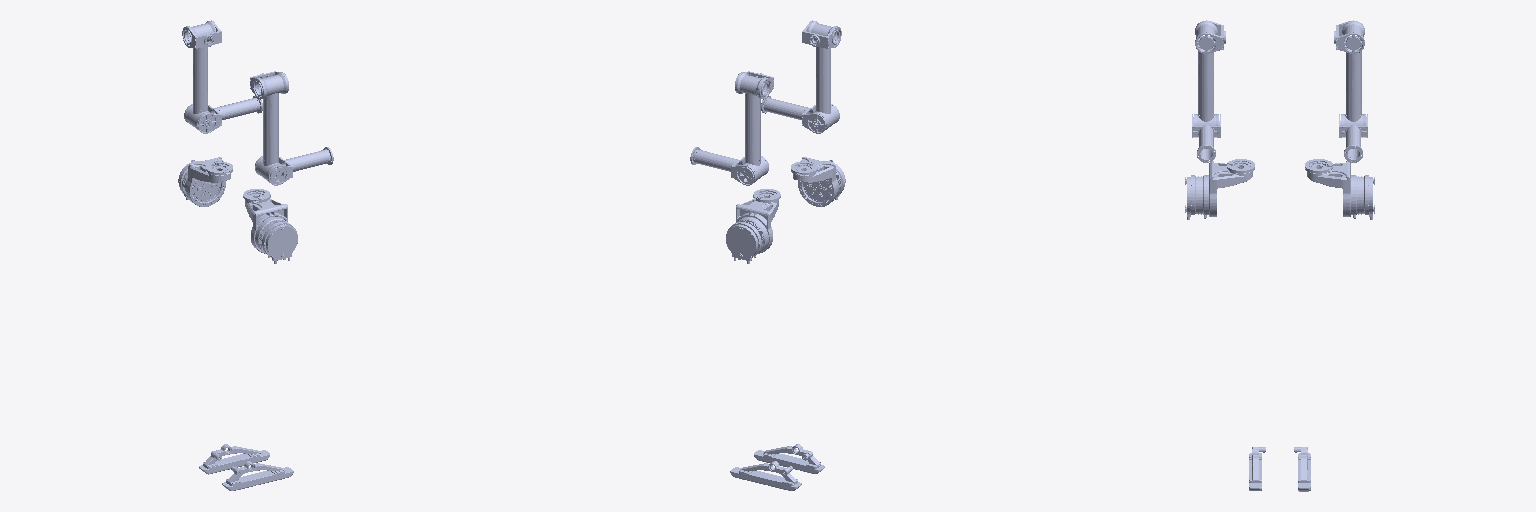
URDF robot description (ht-0_asm.SLDASM8):
<?xml version="1.0" encoding="utf-8"?>
<!-- This URDF was automatically created by SolidWorks to URDF Exporter! Originally created by Stephen Brawner (brawner@gmail.com) 
     Commit Version: 1.6.0-4-g7f85cfe  Build Version: 1.6.7995.38578
     For more information, please see http://wiki.ros.org/sw_urdf_exporter -->
<robot
  name="ht-0_asm.SLDASM8">
  <link
    name="base_link">
    <inertial>
      <origin
        xyz="-0.121277 -0.00095107 0.076934"
        rpy="0 0 0" />
      <mass
        value="21.217" />
      <inertia
        ixx="0.498839"
        ixy="0.000406"
        ixz="-0.006990"
        iyy="0.441925"
        iyz="-0.003179"
        izz="0.247643" />
    </inertial>
    <visual>
      <origin
        xyz="-0.08935 0 0.16852"
        rpy="0 0 0" />
      <geometry>
        <mesh
          filename="../meshes/base_link.STL" />
      </geometry>
      <material
        name="">
        <color
          rgba="0.79216 0.81961 0.93333 1" />
      </material>
    </visual>
  
    <collision>
      <origin xyz="-0.086824 0 0.119734" rpy="0 0 0" />
      <geometry>
        <box size="0.292522 0.26401 0.458058" />
      </geometry>
    </collision>
  </link>
  <link
    name="shoulder_pitch_l_link">
    <inertial>
      <origin
        xyz="0.00045078 0.057023 -0.16263"
        rpy="0 0 0" />
      <mass
        value="0.64782" />
      <inertia
        ixx="0.012211"
        ixy="-0.000002"
        ixz="-0.000048"
        iyy="0.012240"
        iyz="0.000622"
        izz="0.000750" />
    </inertial>
    <visual>
      <origin
        xyz="0 0 0"
        rpy="0 0 0" />
      <geometry>
        <mesh
          filename="../meshes/shoulder_pitch_l_link.STL" />
      </geometry>
      <material
        name="">
        <color
          rgba="0.79216 0.81961 0.93333 1" />
      </material>
    </visual>
  
  </link>
  <joint
    name="shoulder_pitch_l_joint"
    type="revolute">
    <origin
      xyz="-0.08935 0.1647 0.16852"
      rpy="0 0 0" />
    <parent
      link="base_link" />
    <child
      link="shoulder_pitch_l_link" />
    <axis
      xyz="0 1 0" />
    <limit
      lower="-1.74532925199433"
      upper="1.74532925199433"
      effort="50"
      velocity="35.290557475325" />
  </joint>
  <link
    name="elbow_pitch_l_link">
    <inertial>
      <origin
        xyz="0.075424 0.004263 0.00065205"
        rpy="0 0 0" />
      <mass
        value="0.21418" />
      <inertia
        ixx="0.000257"
        ixy="0.000070"
        ixz="-0.000010"
        iyy="0.001321"
        iyz="0.000001"
        izz="0.001461" />
    </inertial>
    <visual>
      <origin
        xyz="0 0 0"
        rpy="0 0 0" />
      <geometry>
        <mesh
          filename="../meshes/elbow_pitch_l_link.STL" />
      </geometry>
      <material
        name="">
        <color
          rgba="0.79216 0.81961 0.93333 1" />
      </material>
    </visual>
  
  </link>
  <joint
    name="elbow_pitch_l_joint"
    type="revolute">
    <origin
      xyz="0 0.062458 -0.3"
      rpy="0 0 0" />
    <parent
      link="shoulder_pitch_l_link" />
    <child
      link="elbow_pitch_l_link" />
    <axis
      xyz="0 1 0" />
    <limit lower="-0.08726646259971647" upper="2.792526803190927" effort="12" velocity="23.038346126325" />
  </joint>
  <link
    name="shoulder_pitch_r_link">
    <inertial>
      <origin
        xyz="0.00045079 -0.060183 -0.16263"
        rpy="0 0 0" />
      <mass
        value="0.64782" />
      <inertia
        ixx="0.012271"
        ixy="0.000001"
        ixz="-0.000048"
        iyy="0.012240"
        iyz="-0.000903"
        izz="0.000810" />
    </inertial>
    <visual>
      <origin
        xyz="0 0 0"
        rpy="0 0 0" />
      <geometry>
        <mesh
          filename="../meshes/shoulder_pitch_r_link.STL" />
      </geometry>
      <material
        name="">
        <color
          rgba="0.79216 0.81961 0.93333 1" />
      </material>
    </visual>
  
  </link>
  <joint
    name="shoulder_pitch_r_joint"
    type="revolute">
    <origin
      xyz="-0.08935 -0.1647 0.16852"
      rpy="0 0 0" />
    <parent
      link="base_link" />
    <child
      link="shoulder_pitch_r_link" />
    <axis
      xyz="0 1 0" />
    <limit
      lower="-1.74532925199433"
      upper="1.74532925199433"
      effort="50"
      velocity="35.290557475325" />
  </joint>
  <link
    name="elbow_pitch_r_link">
    <inertial>
      <origin
        xyz="0.075424 -0.004263 0.00065204"
        rpy="0 0 0" />
      <mass
        value="0.21418" />
      <inertia
        ixx="0.000257"
        ixy="-0.000070"
        ixz="-0.000010"
        iyy="0.001321"
        iyz="-0.000001"
        izz="0.001461" />
    </inertial>
    <visual>
      <origin
        xyz="0 0 0"
        rpy="0 0 0" />
      <geometry>
        <mesh
          filename="../meshes/elbow_pitch_r_link.STL" />
      </geometry>
      <material
        name="">
        <color
          rgba="0.79216 0.81961 0.93333 1" />
      </material>
    </visual>
  
  </link>
  <joint
    name="elbow_pitch_r_joint"
    type="revolute">
    <origin
      xyz="0 -0.062458 -0.3"
      rpy="0 0 0" />
    <parent
      link="shoulder_pitch_r_link" />
    <child
      link="elbow_pitch_r_link" />
    <axis
      xyz="0 1 0" />
    <limit lower="-0.08726646259971647" upper="2.792526803190927" effort="12" velocity="23.038346126325" />
  </joint>
  <link
    name="waist_link">
    <inertial>
      <origin
        xyz="-0.052325 -2.3017E-05 -0.066634"
        rpy="0 0 0" />
      <mass
        value="6.65" />
      <inertia
        ixx="0.077027"
        ixy="-0.000011"
        ixz="-0.006005"
        iyy="0.029755"
        iyz="0.000023"
        izz="0.092209" />
    </inertial>
    <visual>
      <origin
        xyz="0 0 0"
        rpy="0 0 0" />
      <geometry>
        <mesh
          filename="../meshes/waist_link.STL" />
      </geometry>
      <material
        name="">
        <color
          rgba="0.79216 0.81961 0.93333 1" />
      </material>
    </visual>
  
  </link>
  <joint
    name="waist_joint"
    type="revolute">
    <origin
      xyz="-0.08935 0 -0.14548"
      rpy="0 0 0" />
    <parent
      link="base_link" />
    <child
      link="waist_link" />
    <axis
      xyz="0 0 1" />
    <limit
      lower="-1.74532925199433"
      upper="1.74532925199433"
      effort="200"
      velocity="26.075219024795" />
  </joint>
  <link
    name="hip_roll_r_link">
    <inertial>
      <origin
        xyz="0.067607 -4.4804E-05 0.0026625"
        rpy="0 0 0" />
      <mass
        value="1.4872" />
      <inertia
        ixx="0.001270"
        ixy="0.000001"
        ixz="0.000007"
        iyy="0.001573"
        iyz="-0.000000"
        izz="0.001681" />
    </inertial>
    <visual>
      <origin
        xyz="0 0 0"
        rpy="0 0 0" />
      <geometry>
        <mesh
          filename="../meshes/hip_roll_r_link.STL" />
      </geometry>
      <material
        name="">
        <color
          rgba="0.79216 0.81961 0.93333 1" />
      </material>
    </visual>
  
  </link>
  <joint
    name="hip_roll_r_joint"
    type="revolute">
    <origin
      xyz="-0.0605 -0.12 -0.0845"
      rpy="0 0 0" />
    <parent
      link="waist_link" />
    <child
      link="hip_roll_r_link" />
    <axis
      xyz="1 0 0" />
    <limit
      lower="-0.5235987755982988"
      upper="0.3490658503988659"
      effort="320"
      velocity="24.609142453120" />
  </joint>
  <link
    name="hip_yaw_r_link">
    <inertial>
      <origin
        xyz="5.1727E-05 -0.093039 -0.088751"
        rpy="0 0 0" />
      <mass
        value="3.4235" />
      <inertia
        ixx="0.013452"
        ixy="0.000001"
        ixz="0.000002"
        iyy="0.011643"
        iyz="-0.003400"
        izz="0.010360" />
    </inertial>
    <visual>
      <origin
        xyz="0 0 0"
        rpy="0 0 0" />
      <geometry>
        <mesh
          filename="../meshes/hip_yaw_r_link.STL" />
      </geometry>
      <material
        name="">
        <color
          rgba="0.79216 0.81961 0.93333 1" />
      </material>
    </visual>
  
  </link>
  <joint
    name="hip_yaw_r_joint"
    type="revolute">
    <origin
      xyz="0.0695 0 -0.0323"
      rpy="0 0 0" />
    <parent
      link="hip_roll_r_link" />
    <child
      link="hip_yaw_r_link" />
    <axis
      xyz="0 0 1" />
    <limit
      lower="-0.4363323129985824"
      upper="0.4363323129985824"
      effort="200"
      velocity="26.075219024795" />
  </joint>
  <link
    name="hip_pitch_r_link">
    <inertial>
      <origin
        xyz="0.0053486 0.085838 -0.089566"
        rpy="0 0 0" />
      <mass
        value="6.0129" />
      <inertia
        ixx="0.130527"
        ixy="-0.000612"
        ixz="0.006842"
        iyy="0.128586"
        iyz="0.013989"
        izz="0.016553" />
    </inertial>
    <visual>
      <origin
        xyz="0 0 0"
        rpy="0 0 0" />
      <geometry>
        <mesh
          filename="../meshes/hip_pitch_r_link.STL" />
      </geometry>
      <material
        name="">
        <color
          rgba="0.79216 0.81961 0.93333 1" />
      </material>
    </visual>
  
  </link>
  <joint
    name="hip_pitch_r_joint"
    type="revolute">
    <origin
      xyz="0 -0.076 -0.1033"
      rpy="0 0 0" />
    <parent
      link="hip_yaw_r_link" />
    <child
      link="hip_pitch_r_link" />
    <axis
      xyz="0 1 0" />
    <limit
      lower="-1.74532925199433"
      upper="1.74532925199433"
      effort="400"
      velocity="24.609142453120" />
  </joint>
  <link
    name="knee_pitch_r_link">
    <inertial>
      <origin
        xyz="0.0031709 -0.0093143 -0.14481"
        rpy="0 0 0" />
      <mass
        value="2.9176" />
      <inertia
        ixx="0.038770"
        ixy="0.000145"
        ixz="-0.001200"
        iyy="0.039599"
        iyz="0.002544"
        izz="0.003500" />
    </inertial>
    <visual>
      <origin
        xyz="0 0 0"
        rpy="0 0 0" />
      <geometry>
        <mesh
          filename="../meshes/knee_pitch_r_link.STL" />
      </geometry>
      <material
        name="">
        <color
          rgba="0.79216 0.81961 0.93333 1" />
      </material>
    </visual>
  
  </link>
  <joint
    name="knee_pitch_r_joint"
    type="revolute">
    <origin
      xyz="0 0.121 -0.46"
      rpy="0 0 0" />
    <parent
      link="hip_pitch_r_link" />
    <child
      link="knee_pitch_r_link" />
    <axis
      xyz="0 1 0" />
    <limit
      lower="-0.03490658503988659"
      upper="2.356194490192345"
      effort="400"
      velocity="24.609142453120" />
  </joint>
  <link
    name="ankle_pitch_r_link">
    <inertial>
      <origin
        xyz="0.017881 0.00053938 -0.033954"
        rpy="0 0 0" />
      <mass
        value="0.62301" />
      <inertia
        ixx="0.000366"
        ixy="0.000012"
        ixz="0.000175"
        iyy="0.002733"
        iyz="-0.000005"
        izz="0.002495" />
    </inertial>
    <visual>
      <origin
        xyz="0 0 0"
        rpy="0 0 0" />
      <geometry>
        <mesh
          filename="../meshes/ankle_pitch_r_link.STL" />
      </geometry>
      <material
        name="">
        <color
          rgba="0.79216 0.81961 0.93333 1" />
      </material>
    </visual>
  
    <collision>
      <origin xyz="0.03 -0.01 -0.055" rpy="0 1.5707963267948966 0" />
      <geometry>
        <cylinder radius="0.01" length="0.25" />
      </geometry>
    </collision>
    <collision>
      <origin xyz="0.03 0.01 -0.055" rpy="0 1.5707963267948966 0" />
      <geometry>
        <cylinder radius="0.01" length="0.25" />
      </geometry>
    </collision>
  </link>
  <joint
    name="ankle_pitch_r_joint"
    type="revolute">
    <origin
      xyz="0 0 -0.42"
      rpy="0 0 0" />
    <parent
      link="knee_pitch_r_link" />
    <child
      link="ankle_pitch_r_link" />
    <axis
      xyz="0 1 0" />
    <limit
      lower="-0.8726646259971648"
      upper="1.047197551196598"
      effort="160"
      velocity="27.646015351590" />
  </joint>
  <link
    name="hip_roll_l_link">
    <inertial>
      <origin
        xyz="0.063086 4.1344E-05 0.0026625"
        rpy="0 0 0" />
      <mass
        value="1.4872" />
      <inertia
        ixx="0.001270"
        ixy="-0.000001"
        ixz="0.000007"
        iyy="0.001573"
        iyz="0.000000"
        izz="0.001681" />
    </inertial>
    <visual>
      <origin
        xyz="0 0 0"
        rpy="0 0 0" />
      <geometry>
        <mesh
          filename="../meshes/hip_roll_l_link.STL" />
      </geometry>
      <material
        name="">
        <color
          rgba="0.79216 0.81961 0.93333 1" />
      </material>
    </visual>
  
  </link>
  <joint
    name="hip_roll_l_joint"
    type="revolute">
    <origin
      xyz="-0.056 0.12 -0.0845"
      rpy="0 0 0" />
    <parent
      link="waist_link" />
    <child
      link="hip_roll_l_link" />
    <axis
      xyz="1 0 0" />
    <limit
      lower="-0.3490658503988659"
      upper="0.5235987755982988"
      effort="320"
      velocity="24.609142453120" />
  </joint>
  <link
    name="hip_yaw_l_link">
    <inertial>
      <origin
        xyz="4.2994E-05 0.093039 -0.088947"
        rpy="0 0 0" />
      <mass
        value="3.4236" />
      <inertia
        ixx="0.013452"
        ixy="-0.000001"
        ixz="0.000002"
        iyy="0.011643"
        iyz="0.003400"
        izz="0.010360" />
    </inertial>
    <visual>
      <origin
        xyz="0 0 0"
        rpy="0 0 0" />
      <geometry>
        <mesh
          filename="../meshes/hip_yaw_l_link.STL" />
      </geometry>
      <material
        name="">
        <color
          rgba="0.79216 0.81961 0.93333 1" />
      </material>
    </visual>
  
  </link>
  <joint
    name="hip_yaw_l_joint"
    type="revolute">
    <origin
      xyz="0.065 0 -0.0323"
      rpy="0 0 0" />
    <parent
      link="hip_roll_l_link" />
    <child
      link="hip_yaw_l_link" />
    <axis
      xyz="0 0 1" />
    <limit
      lower="-0.4363323129985824"
      upper="0.4363323129985824"
      effort="200"
      velocity="26.075219024795" />
  </joint>
  <link
    name="hip_pitch_l_link">
    <inertial>
      <origin
        xyz="0.0053395 -0.085678 -0.08808"
        rpy="0 0 0" />
      <mass
        value="5.987" />
      <inertia
        ixx="0.130527"
        ixy="0.000612"
        ixz="0.006842"
        iyy="0.128586"
        iyz="-0.013989"
        izz="0.016553" />
    </inertial>
    <visual>
      <origin
        xyz="0 0 0"
        rpy="0 0 0" />
      <geometry>
        <mesh
          filename="../meshes/hip_pitch_l_link.STL" />
      </geometry>
      <material
        name="">
        <color
          rgba="0.79216 0.81961 0.93333 1" />
      </material>
    </visual>
  
  </link>
  <joint
    name="hip_pitch_l_joint"
    type="revolute">
    <origin
      xyz="0 0.076 -0.1035"
      rpy="0 0 0" />
    <parent
      link="hip_yaw_l_link" />
    <child
      link="hip_pitch_l_link" />
    <axis
      xyz="0 1 0" />
    <limit
      lower="-1.74532925199433"
      upper="1.74532925199433"
      effort="400"
      velocity="24.609142453120" />
  </joint>
  <link
    name="knee_pitch_l_link">
    <inertial>
      <origin
        xyz="0.0031754 0.0093623 -0.14337"
        rpy="0 0 0" />
      <mass
        value="2.9026" />
      <inertia
        ixx="0.038770"
        ixy="-0.000145"
        ixz="-0.001200"
        iyy="0.039599"
        iyz="-0.002544"
        izz="0.003500" />
    </inertial>
    <visual>
      <origin
        xyz="0 0 0"
        rpy="0 0 0" />
      <geometry>
        <mesh
          filename="../meshes/knee_pitch_l_link.STL" />
      </geometry>
      <material
        name="">
        <color
          rgba="0.79216 0.81961 0.93333 1" />
      </material>
    </visual>
  
  </link>
  <joint
    name="knee_pitch_l_joint"
    type="revolute">
    <origin
      xyz="0 -0.121 -0.46"
      rpy="0 0 0" />
    <parent
      link="hip_pitch_l_link" />
    <child
      link="knee_pitch_l_link" />
    <axis
      xyz="0 1 0" />
    <limit
      lower="-0.03490658503988659"
      upper="2.356194490192345"
      effort="400"
      velocity="24.609142453120" />
  </joint>
  <link
    name="ankle_pitch_l_link">
    <inertial>
      <origin
        xyz="0.017881 -0.00053938 -0.033955"
        rpy="0 0 0" />
      <mass
        value="0.62301" />
      <inertia
        ixx="0.000366"
        ixy="-0.000012"
        ixz="0.000175"
        iyy="0.002733"
        iyz="0.000005"
        izz="0.002495" />
    </inertial>
    <visual>
      <origin
        xyz="0 0 0"
        rpy="0 0 0" />
      <geometry>
        <mesh
          filename="../meshes/ankle_pitch_l_link.STL" />
      </geometry>
      <material
        name="">
        <color
          rgba="0.79216 0.81961 0.93333 1" />
      </material>
    </visual>
  
    <collision>
      <origin xyz="0.03 -0.01 -0.055" rpy="0 1.5707963267948966 0" />
      <geometry>
        <cylinder radius="0.01" length="0.25" />
      </geometry>
    </collision>
    <collision>
      <origin xyz="0.03 0.01 -0.055" rpy="0 1.5707963267948966 0" />
      <geometry>
        <cylinder radius="0.01" length="0.25" />
      </geometry>
    </collision>
  </link>
  <joint
    name="ankle_pitch_l_joint"
    type="revolute">
    <origin
      xyz="0 0 -0.42"
      rpy="0 0 0" />
    <parent
      link="knee_pitch_l_link" />
    <child
      link="ankle_pitch_l_link" />
    <axis
      xyz="0 1 0" />
    <limit
      lower="-0.8726646259971648"
      upper="1.047197551196598"
      effort="160"
      velocity="27.646015351590" />
  </joint>
</robot>

--- Render facts (derived) ---
3 views of the same robot in one strip: view 1: azimuth 30°, elevation 25°; view 2: azimuth 150°, elevation 25°; view 3: azimuth 270°, elevation 25° (orthographic).
Robot: ht-0_asm.SLDASM8 — 16 links, 15 joints (15 revolute); root link base_link; default pose: all joints at 0.
Links seen in each view (by area): view 1: hip_yaw_r_link, shoulder_pitch_r_link, shoulder_pitch_l_link, hip_yaw_l_link, ankle_pitch_r_link, ankle_pitch_l_link, elbow_pitch_l_link, elbow_pitch_r_link; view 2: hip_yaw_l_link, shoulder_pitch_l_link, shoulder_pitch_r_link, hip_yaw_r_link, ankle_pitch_l_link, ankle_pitch_r_link, elbow_pitch_r_link, elbow_pitch_l_link; view 3: hip_yaw_l_link, hip_yaw_r_link, shoulder_pitch_l_link, shoulder_pitch_r_link, elbow_pitch_l_link, elbow_pitch_r_link, ankle_pitch_l_link, ankle_pitch_r_link.
Boxes of the visible links, left/top/right/bottom form: hip_yaw_r_link: left=243, top=189, right=297, bottom=263; shoulder_pitch_r_link: left=250, top=71, right=288, bottom=182; shoulder_pitch_l_link: left=182, top=20, right=221, bottom=129; hip_yaw_l_link: left=178, top=157, right=232, bottom=206; ankle_pitch_r_link: left=222, top=461, right=293, bottom=490; ankle_pitch_l_link: left=199, top=444, right=269, bottom=474; elbow_pitch_l_link: left=184, top=96, right=262, bottom=133; elbow_pitch_r_link: left=255, top=147, right=333, bottom=185; hip_yaw_l_link: left=726, top=189, right=780, bottom=263; shoulder_pitch_l_link: left=735, top=71, right=773, bottom=182; shoulder_pitch_r_link: left=802, top=20, right=841, bottom=129; hip_yaw_r_link: left=791, top=157, right=845, bottom=206; ankle_pitch_l_link: left=730, top=461, right=801, bottom=490; ankle_pitch_r_link: left=754, top=444, right=824, bottom=473; elbow_pitch_r_link: left=761, top=96, right=839, bottom=133; elbow_pitch_l_link: left=690, top=147, right=768, bottom=185; hip_yaw_l_link: left=1305, top=159, right=1374, bottom=219; hip_yaw_r_link: left=1185, top=159, right=1254, bottom=219; shoulder_pitch_l_link: left=1334, top=20, right=1365, bottom=125; shoulder_pitch_r_link: left=1194, top=20, right=1225, bottom=125; elbow_pitch_l_link: left=1339, top=114, right=1367, bottom=162; elbow_pitch_r_link: left=1192, top=114, right=1220, bottom=162; ankle_pitch_l_link: left=1294, top=447, right=1310, bottom=491; ankle_pitch_r_link: left=1249, top=447, right=1265, bottom=490.
Bounding box of the posed robot: 0.3012 × 0.5891 × 1.51 m (x, y, z).
8 mesh visuals loaded from 16 distinct referenced files (8 binary STL); not drawn: 8 (reference not matched to a file when rendering).
